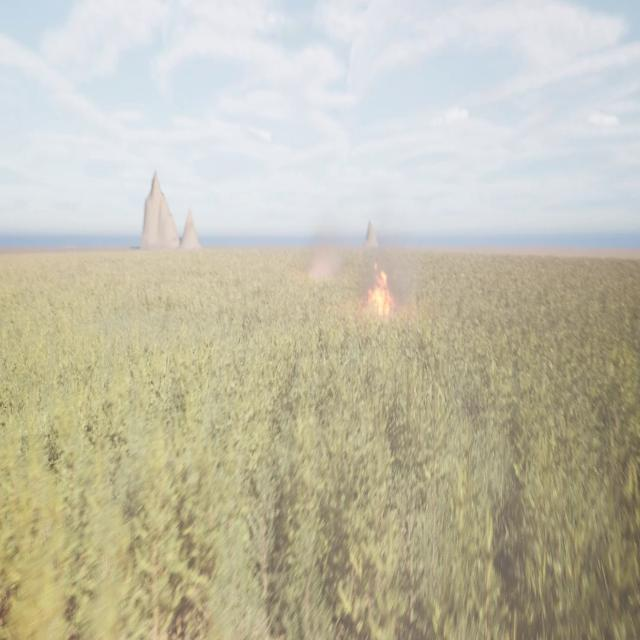fire: (363, 264, 393, 314)
smoke: (360, 220, 409, 305), (307, 212, 345, 293)
